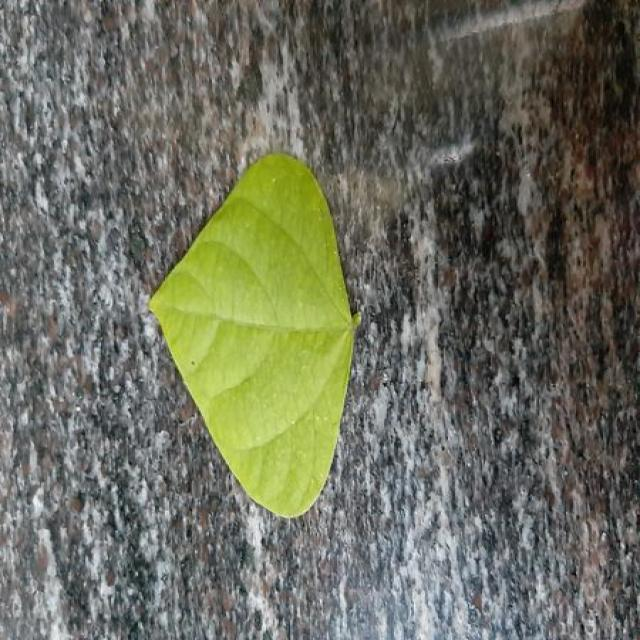beans: (150, 154, 360, 517)
